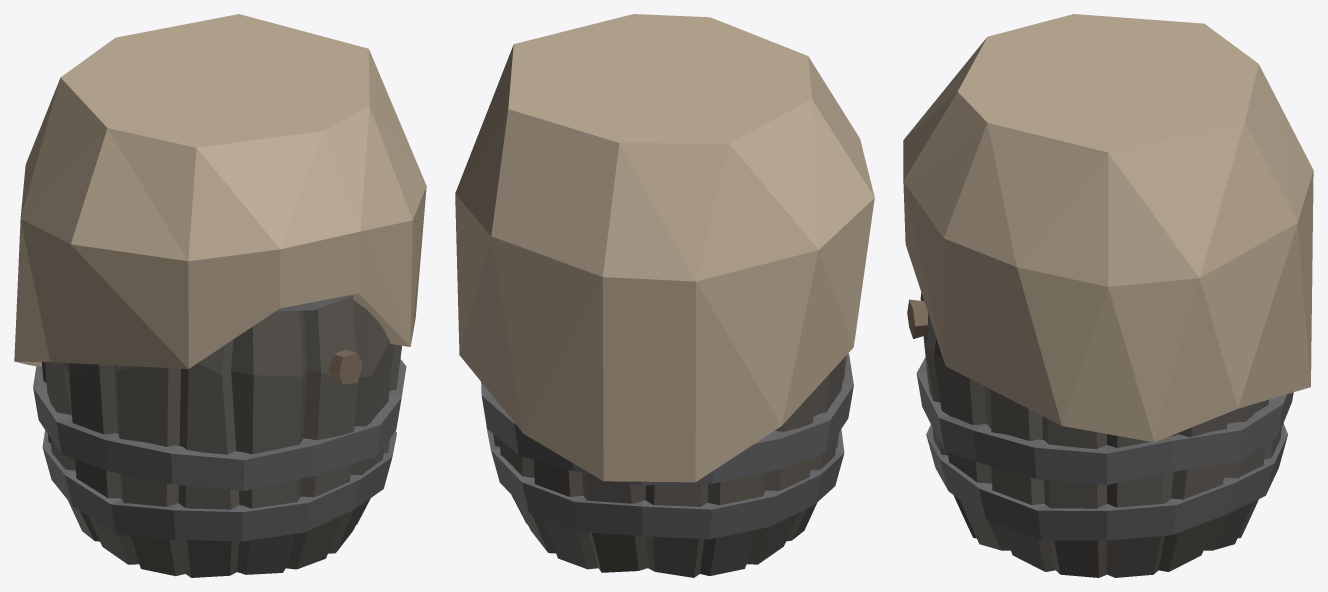
Rendered from SM_Prop_Barrel_05.glb.
3 renders of one model, left to right at view 1: azimuth 30°, elevation 25°; view 2: azimuth 150°, elevation 25°; view 3: azimuth 270°, elevation 25°, orthographic.
Parts seen in each view (by area): view 1: SM_Prop_Barrel_05; view 2: SM_Prop_Barrel_05; view 3: SM_Prop_Barrel_05.
Boxes of the visible parts, x1,y1,x2,y2 form: SM_Prop_Barrel_05: [14, 14, 426, 577]; SM_Prop_Barrel_05: [455, 14, 874, 577]; SM_Prop_Barrel_05: [903, 14, 1313, 577].
Bounding box in the file's own units: 0.00943 × 0.011 × 0.00924.
Materials: 1 (1 with a texture image).
